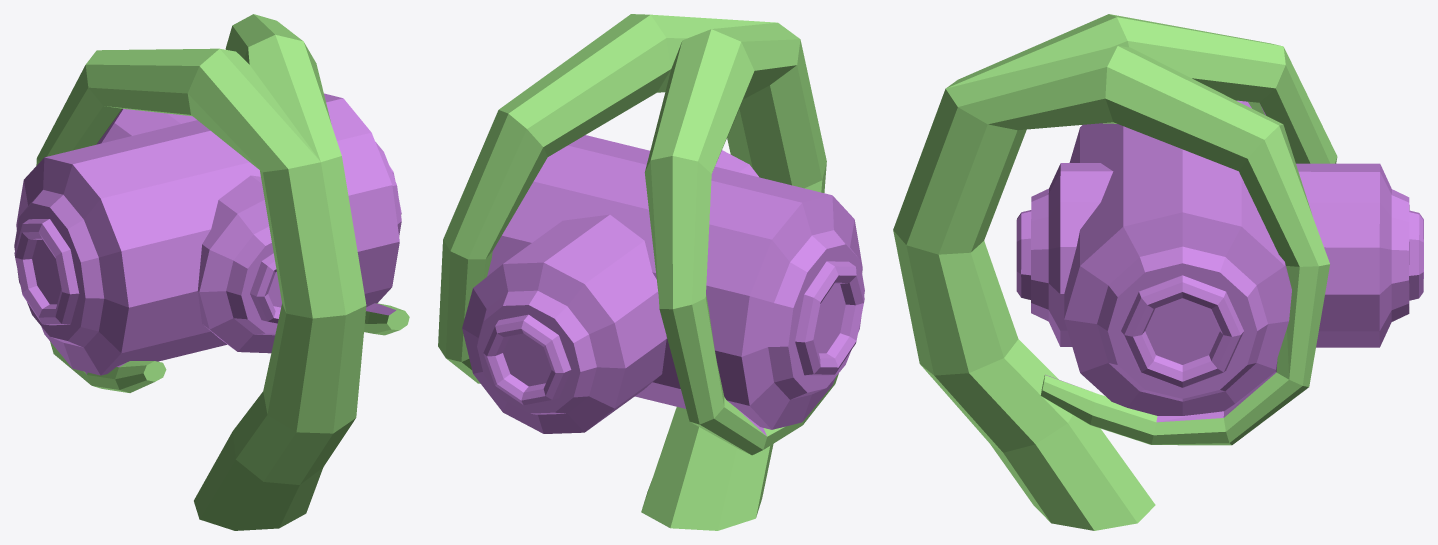
Rendered from OddItem1.fbx.
3 renders of one model, left to right at view 1: azimuth 30°, elevation 25°; view 2: azimuth 150°, elevation 25°; view 3: azimuth 270°, elevation 25°, orthographic. The views are drawn at different scales.
Visible parts, largest first — view 1: Bush; view 2: Bush; view 3: Bush.
Boxes of the visible parts, x1,y1,x2,y2 form: Bush: (14, 14, 409, 530); Bush: (438, 14, 864, 530); Bush: (893, 14, 1423, 530).
Size of the model in its own units: 214 by 275 by 277.
